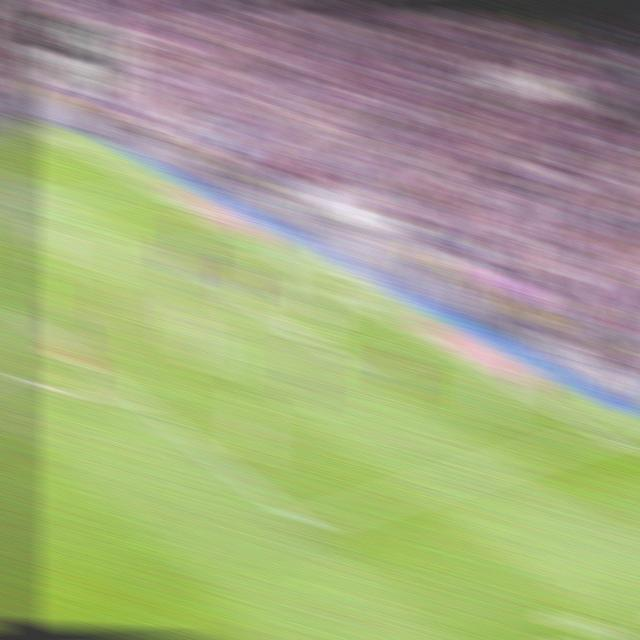bigarea_bottom_inner: (286, 504, 322, 544)
bigarea_bottom_outter: (587, 423, 618, 447)
bigarea_top_outter: (133, 176, 161, 197)
bottom_arc_area_intersection: (122, 385, 155, 413)
corner: (30, 122, 63, 142)
smallarea_top_inner: (155, 245, 179, 262)
